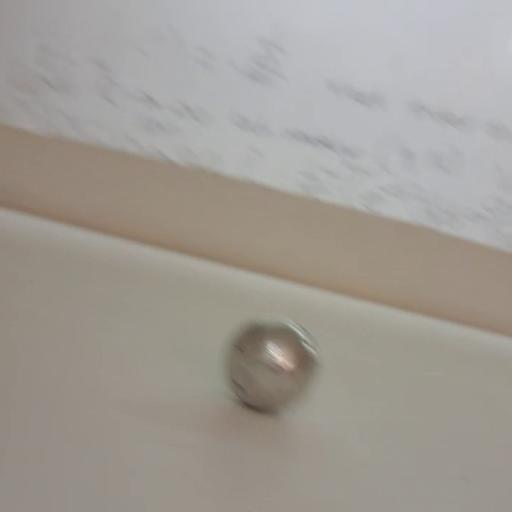alive: (222, 315, 322, 416)
